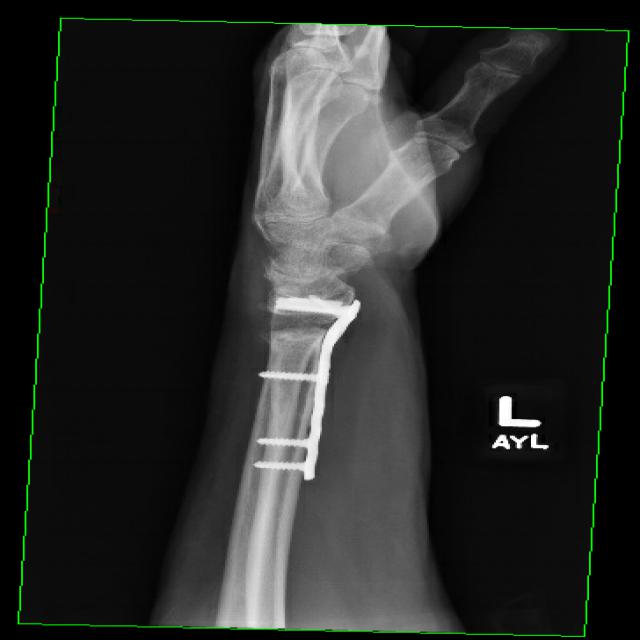x-ray: (250, 287, 371, 494)
